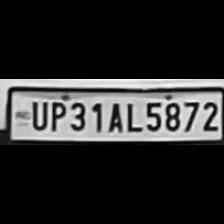1: (86, 98, 104, 132)
2: (198, 98, 218, 132)
3: (67, 98, 87, 132)
5: (142, 98, 162, 132)
7: (182, 98, 198, 132)
8: (162, 98, 180, 132)
A: (104, 98, 124, 132)
L: (123, 98, 141, 132)
P: (48, 98, 66, 132)
U: (28, 97, 48, 130)
